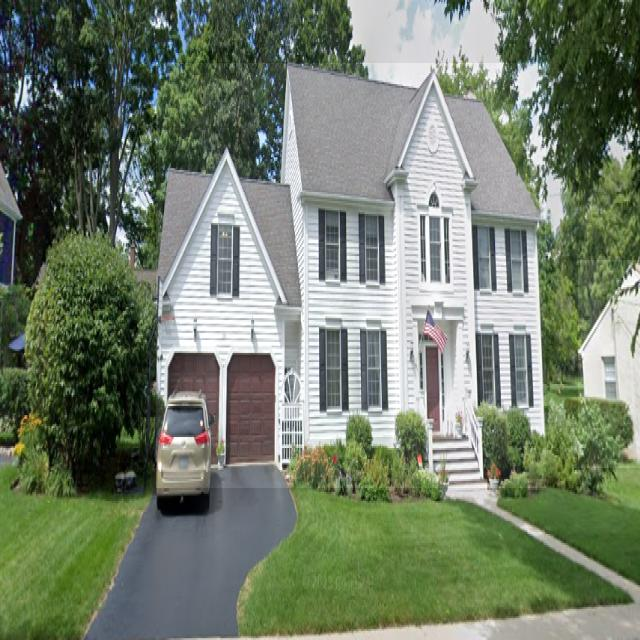House: (156, 63, 546, 488), (578, 260, 640, 468), (0, 160, 22, 292)
